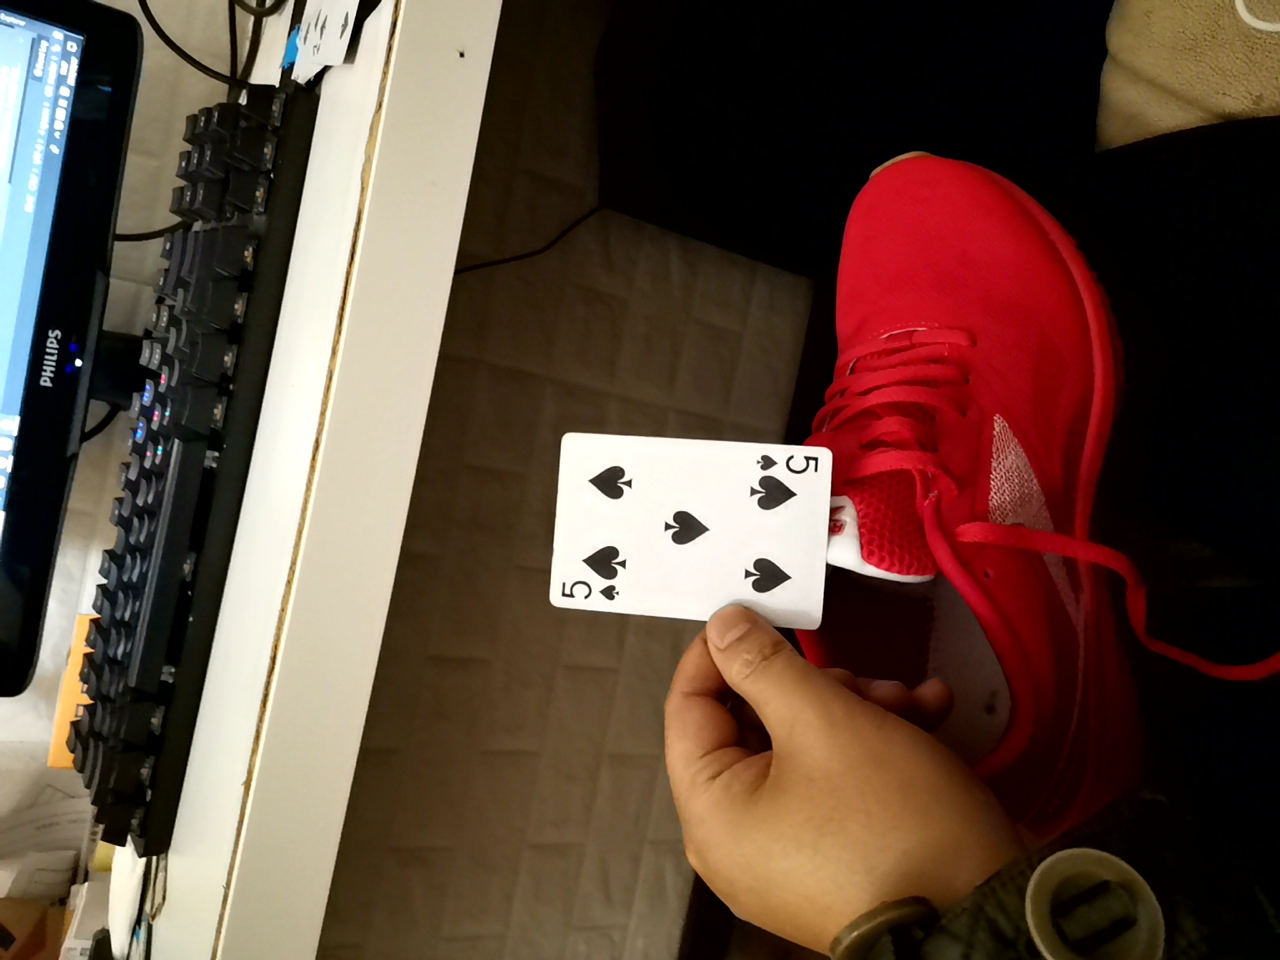ht 5: (545, 415, 860, 624)
